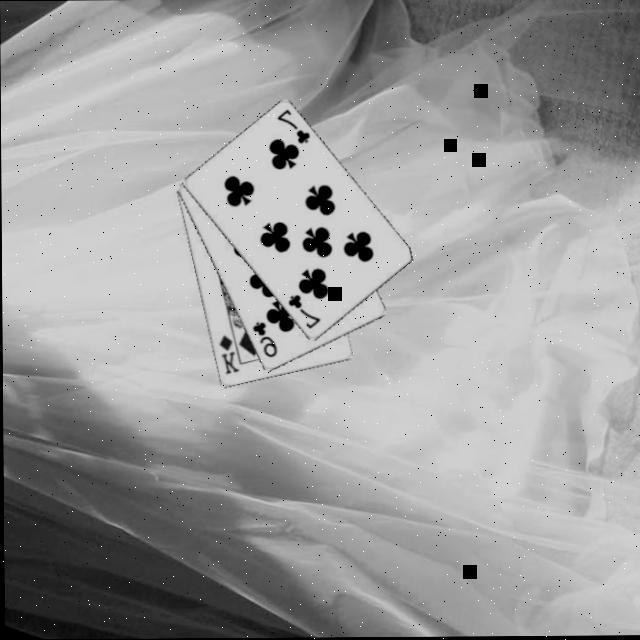7C: (272, 105, 312, 145), (284, 290, 322, 330)
9C: (248, 316, 278, 358)
KD: (214, 331, 240, 376)
